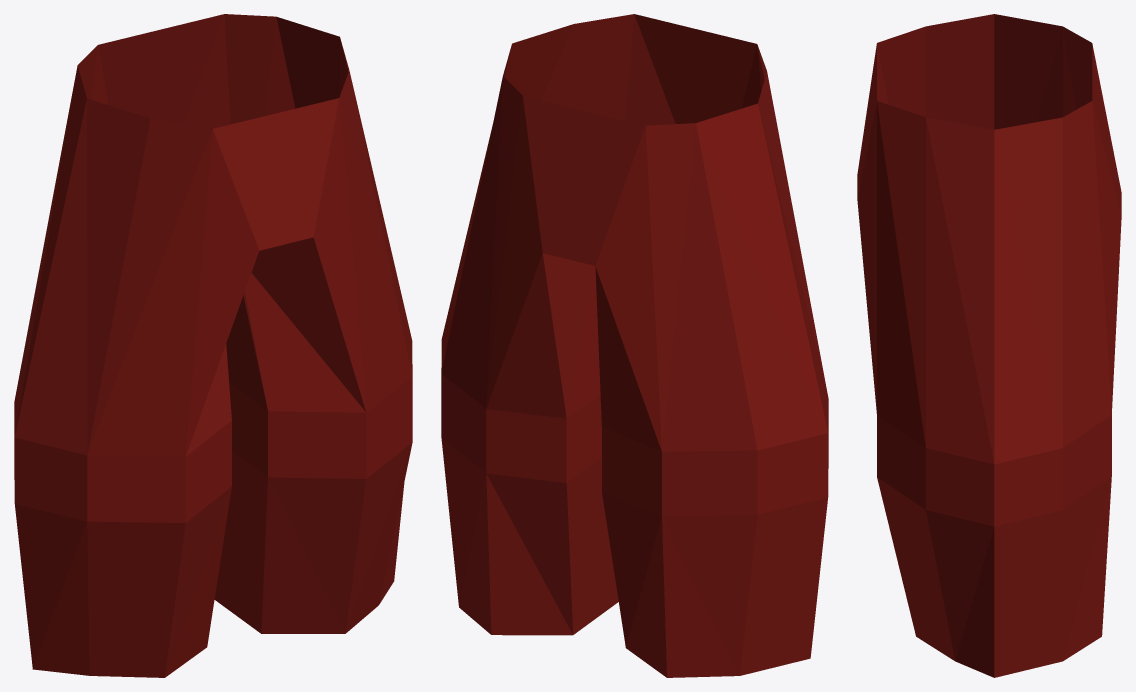
Rendered from model_2981_npc.obj.
3 renders of one model, left to right at view 1: azimuth 30°, elevation 25°; view 2: azimuth 150°, elevation 25°; view 3: azimuth 270°, elevation 25°, orthographic. The views are drawn at different scales.
Visible parts, largest first — view 1: 2981; view 2: 2981; view 3: 2981.
Part boxes in pixels (bbox=[...]): 2981: bbox=[14, 14, 412, 677]; 2981: bbox=[441, 14, 828, 677]; 2981: bbox=[857, 14, 1121, 677].
Size of the model in its own units: 44 by 59 by 27.
